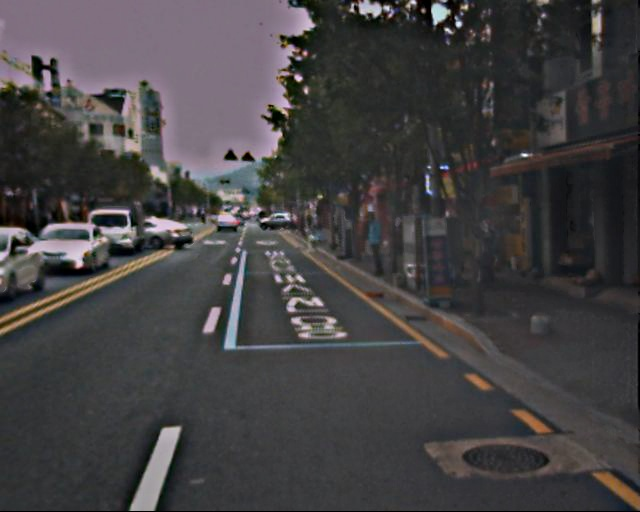person: (469, 219, 499, 291), (360, 213, 387, 280)
